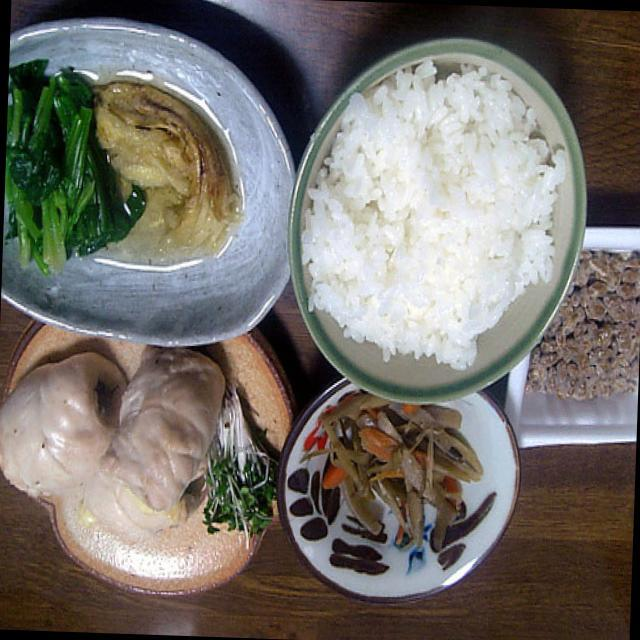Rice: (298, 62, 568, 378)
